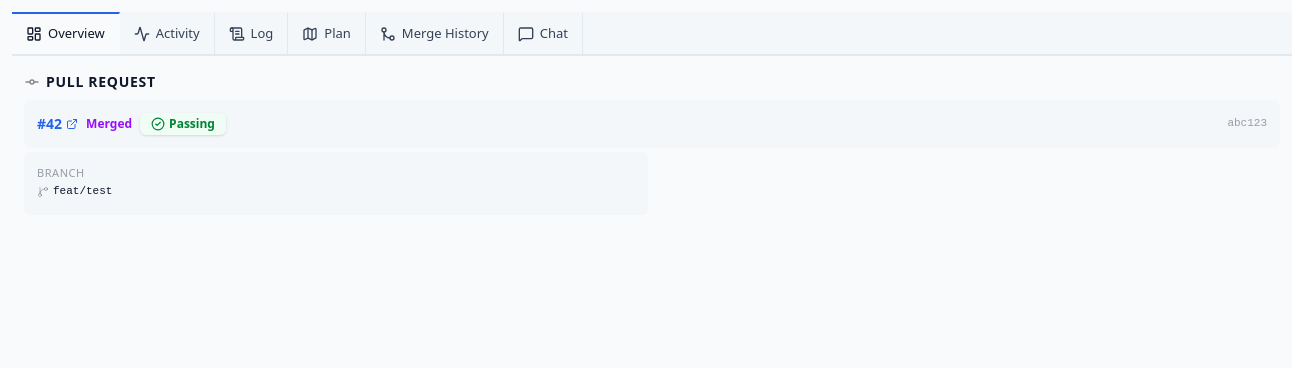
Test: FeatureDrawerTabs › merge-review readOnly prop threading › passes readOnly to MergeReview when lifecycle=maintain (no action bar)
The width and height of the screenshot is (1292, 368).
Click the tab "Merge History" at (435, 33), box [366, 12, 504, 54]
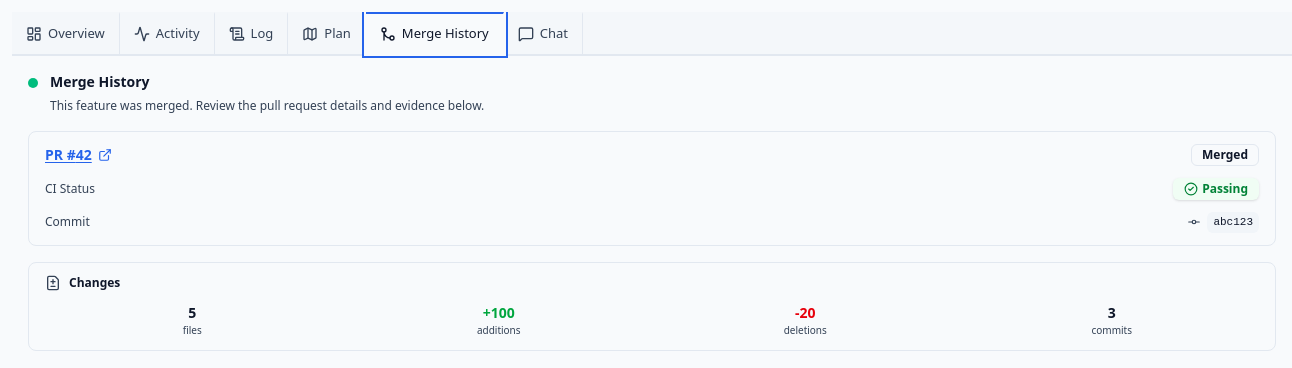
Result: the heading "Merge History" is shown at [50, 72, 150, 90]
Result: the link "PR #42" is shown at [45, 145, 112, 165]
